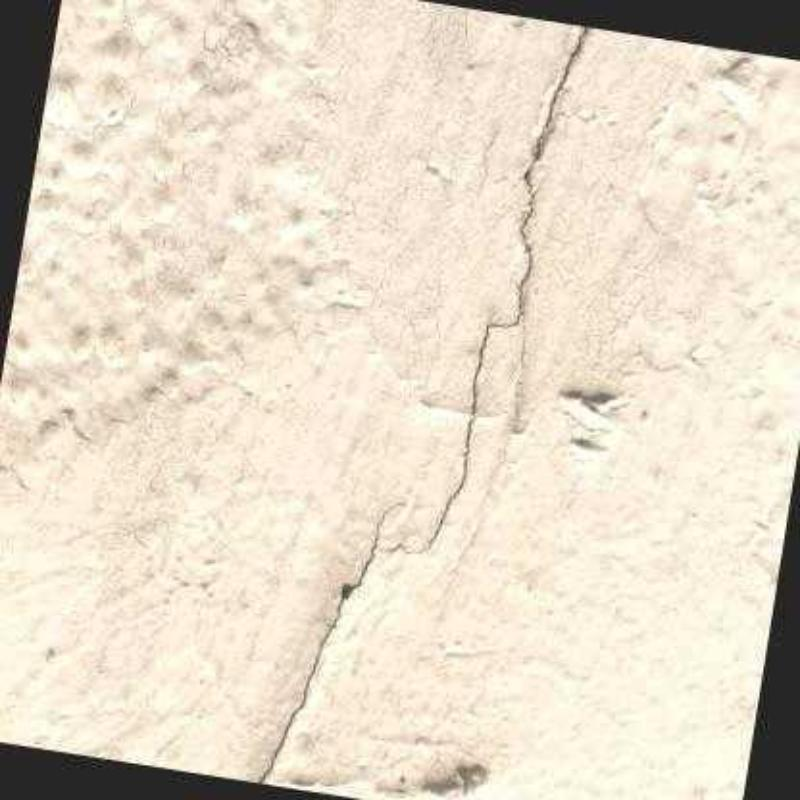pothole: (250, 23, 593, 784)
